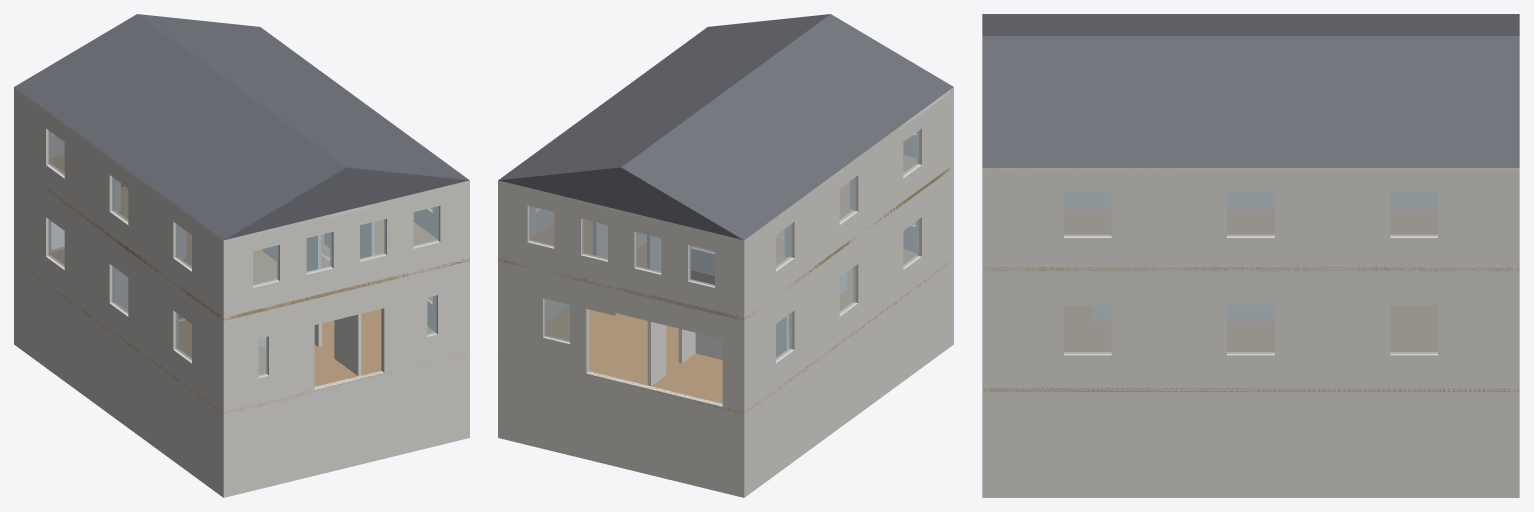
Rendered from dalhousie.glb.
3 renders of one model, left to right at view 1: azimuth 30°, elevation 25°; view 2: azimuth 150°, elevation 25°; view 3: azimuth 270°, elevation 25°, orthographic. The views are drawn at different scales.
Visible parts, largest first — view 1: TheDalhousie; view 2: TheDalhousie; view 3: TheDalhousie.
Part boxes in pixels (x1,y1,x2,y2): TheDalhousie: [14, 14, 469, 497]; TheDalhousie: [498, 14, 953, 497]; TheDalhousie: [982, 14, 1519, 497].
Bounding box in the file's own units: 9.14 × 10.67 × 13.49.
